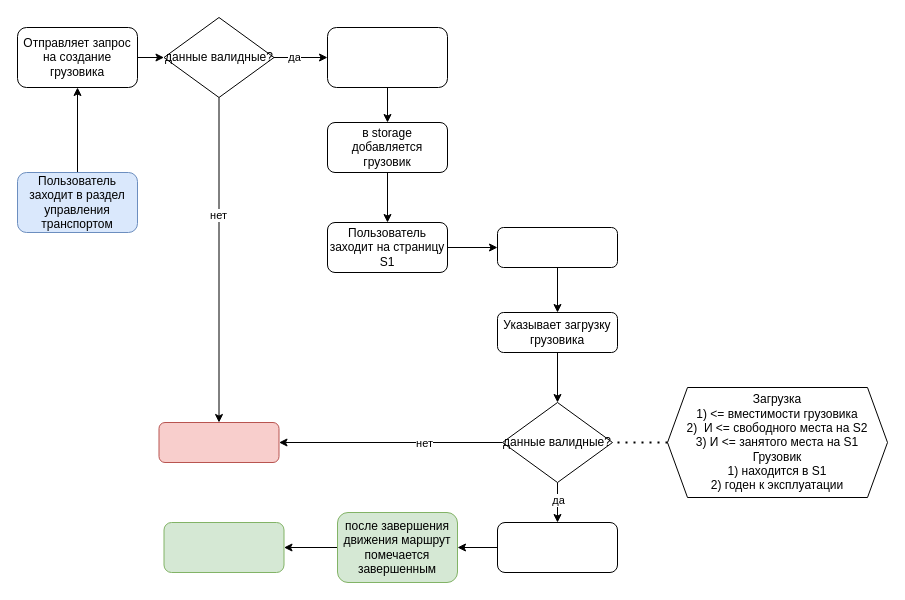
Some shapes in this 905 by 600 pixel diagram are drawn without their labels. Each missing label, with the centre of its shape:
"Выбирает пункт назначения S2" belongs at (557,247).
"выводится сообщение с ошибками" belongs at (218,442).
"грузовик добавлен в список и может быть использован" belongs at (387,57).
"маршрут регистрируется в системе" belongs at (557,547).
"текущая остановка грузовика становится S2" belongs at (223,547).
